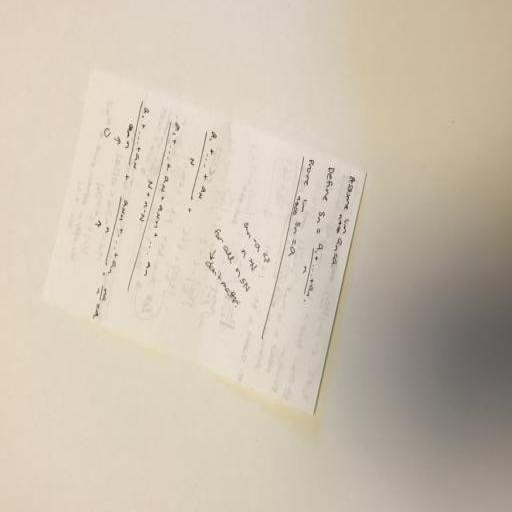paper: (44, 70, 368, 422)
